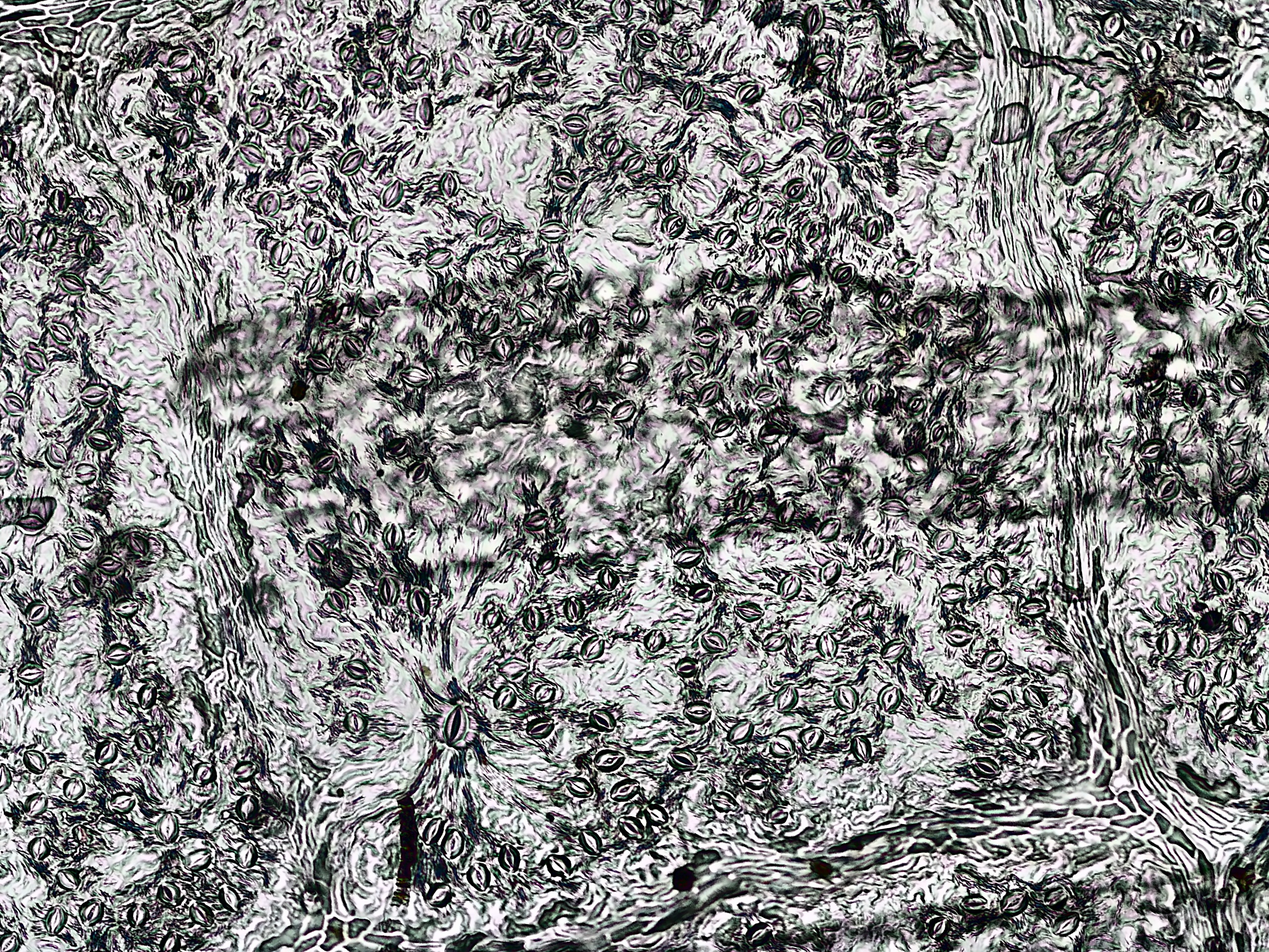stomata: (442, 703, 467, 746), (311, 447, 341, 476), (376, 575, 402, 607), (156, 811, 181, 844), (737, 78, 766, 106), (779, 101, 805, 132), (579, 633, 606, 662), (831, 685, 860, 712), (1099, 9, 1125, 39), (398, 366, 433, 388), (303, 536, 330, 564), (774, 683, 799, 713), (876, 683, 901, 713), (498, 843, 522, 874), (1183, 382, 1207, 413), (44, 904, 67, 936), (1177, 19, 1200, 51), (495, 659, 530, 680), (78, 898, 104, 926), (406, 459, 432, 487), (746, 922, 774, 948), (295, 171, 328, 193), (818, 557, 842, 587), (539, 221, 570, 244), (668, 748, 699, 771), (1019, 727, 1050, 750), (1139, 38, 1162, 69), (1232, 16, 1254, 48), (1156, 625, 1178, 657), (737, 148, 764, 174), (1097, 203, 1124, 229), (234, 842, 259, 870), (1210, 220, 1238, 245), (288, 124, 312, 153), (258, 190, 282, 219), (889, 40, 918, 64), (511, 23, 534, 53), (44, 322, 75, 344), (609, 778, 640, 800), (1202, 57, 1233, 79), (338, 148, 364, 174), (727, 718, 753, 744), (1226, 370, 1251, 397), (16, 514, 48, 535), (320, 297, 344, 325), (822, 134, 850, 158), (594, 749, 626, 770), (672, 547, 704, 568), (1177, 104, 1201, 132), (1141, 437, 1169, 461), (356, 294, 385, 317), (261, 448, 284, 477), (466, 862, 489, 891), (1052, 912, 1081, 935), (1244, 187, 1267, 216), (383, 521, 405, 551), (522, 604, 544, 634), (525, 716, 555, 738), (894, 548, 915, 579), (189, 902, 215, 927), (166, 47, 193, 71), (185, 847, 212, 871), (237, 794, 261, 821), (1216, 148, 1240, 175), (1154, 475, 1181, 499), (442, 831, 465, 859), (1246, 299, 1269, 327), (1228, 419, 1251, 447), (804, 3, 824, 35), (304, 219, 326, 248), (578, 314, 600, 343), (1159, 269, 1181, 298), (342, 658, 372, 679), (945, 625, 975, 646), (427, 881, 451, 907), (616, 360, 642, 384), (685, 700, 711, 724), (939, 358, 965, 382), (477, 211, 500, 238), (752, 383, 779, 406), (303, 270, 325, 298), (45, 441, 67, 469), (629, 303, 651, 331), (851, 736, 873, 764), (910, 302, 932, 330), (173, 178, 194, 207), (66, 528, 95, 549), (409, 589, 430, 618), (824, 377, 845, 406), (972, 757, 1001, 778), (344, 711, 368, 736), (769, 734, 794, 758), (929, 418, 949, 448), (5, 216, 28, 242), (548, 854, 574, 877), (1186, 630, 1209, 656), (58, 272, 85, 294), (270, 238, 292, 265), (81, 385, 108, 407), (95, 739, 117, 766), (493, 335, 515, 362), (807, 52, 834, 74), (663, 212, 685, 239), (762, 631, 789, 653), (96, 555, 124, 576), (17, 663, 45, 684), (137, 683, 158, 711), (756, 424, 784, 445), (1000, 891, 1028, 912), (939, 582, 967, 603), (979, 716, 1007, 737), (1190, 188, 1211, 216), (349, 215, 369, 244), (623, 65, 643, 94), (925, 680, 945, 709), (1216, 657, 1236, 686), (1185, 668, 1205, 697), (1, 390, 24, 415), (24, 601, 49, 624), (23, 749, 46, 774), (475, 309, 498, 334), (698, 382, 721, 407), (800, 726, 823, 751), (777, 575, 802, 598), (981, 649, 1006, 672), (1141, 92, 1164, 117), (562, 115, 588, 137), (347, 509, 369, 535), (575, 387, 597, 413), (609, 401, 635, 423), (563, 597, 585, 623), (493, 685, 515, 711), (862, 534, 884, 560), (383, 178, 402, 208), (1019, 598, 1049, 617), (86, 429, 113, 450), (29, 835, 50, 862), (817, 632, 838, 659), (471, 5, 491, 33), (126, 532, 150, 555), (865, 96, 888, 120), (553, 168, 577, 191), (535, 552, 559, 575), (643, 629, 666, 653), (851, 598, 874, 622), (904, 452, 928, 475), (1212, 569, 1235, 593), (415, 97, 434, 126), (241, 142, 266, 164), (25, 350, 47, 375), (134, 728, 156, 753), (219, 885, 241, 910), (882, 637, 907, 659), (1025, 684, 1047, 709), (1161, 227, 1183, 252), (1206, 281, 1228, 306), (1198, 502, 1220, 527), (427, 247, 453, 268), (308, 352, 334, 373), (732, 306, 758, 327), (702, 632, 728, 653), (422, 818, 442, 845), (657, 153, 677, 180), (599, 567, 619, 594), (566, 776, 593, 796), (711, 791, 738, 811), (821, 468, 848, 488), (1251, 702, 1269, 732), (735, 602, 763, 621), (783, 178, 806, 201), (553, 25, 577, 47), (602, 134, 624, 158), (25, 793, 47, 817), (56, 868, 80, 890), (193, 762, 217, 784), (579, 831, 601, 855), (516, 303, 540, 325), (591, 709, 615, 731), (106, 644, 131, 665), (345, 334, 366, 359), (785, 271, 810, 292), (762, 341, 787, 362), (712, 416, 737, 437), (618, 817, 643, 838), (173, 122, 191, 151), (440, 172, 460, 198), (453, 49, 473, 75), (864, 217, 884, 243), (693, 327, 719, 347), (644, 804, 670, 824), (861, 384, 881, 410), (882, 498, 908, 518), (62, 777, 84, 800), (157, 882, 179, 905), (386, 436, 409, 458), (832, 264, 855, 286), (1227, 463, 1250, 485), (530, 67, 558, 85), (111, 792, 135, 813), (443, 278, 461, 306), (711, 265, 732, 289), (893, 256, 917, 277), (735, 487, 753, 515), (35, 224, 55, 249), (115, 597, 140, 617), (128, 904, 148, 929), (776, 499, 796, 524), (301, 84, 320, 110), (742, 769, 768, 788), (962, 894, 988, 913), (52, 187, 69, 216), (501, 253, 523, 275), (714, 226, 736, 248), (817, 518, 839, 540), (1217, 703, 1239, 725), (407, 55, 428, 78), (73, 465, 96, 486), (67, 574, 90, 595), (623, 152, 646, 173), (929, 916, 950, 939), (683, 80, 699, 110), (525, 512, 549, 532), (675, 657, 699, 677), (990, 691, 1014, 711), (634, 28, 659, 47), (798, 310, 823, 329), (873, 136, 899, 154), (158, 930, 180, 951), (933, 530, 954, 552), (611, 1, 634, 21), (233, 761, 256, 781), (689, 582, 712, 602), (959, 294, 979, 317), (375, 23, 399, 42), (545, 270, 569, 289), (344, 260, 362, 285), (1044, 888, 1069, 906), (1253, 236, 1269, 264), (495, 83, 512, 109), (72, 825, 94, 845), (456, 341, 476, 363), (484, 608, 504, 630), (340, 41, 359, 64), (1231, 610, 1247, 637), (742, 197, 762, 218), (534, 682, 554, 703), (767, 806, 788, 826), (908, 393, 928, 414), (960, 499, 981, 519), (986, 565, 1006, 586), (1237, 536, 1257, 557), (0, 930, 19, 952), (327, 592, 349, 611), (764, 228, 787, 246), (250, 104, 267, 128), (877, 287, 894, 311), (78, 230, 92, 259), (893, 343, 912, 364), (655, 0, 674, 20), (687, 356, 707, 375), (519, 0, 546, 14), (0, 552, 14, 579), (674, 38, 691, 60), (957, 474, 979, 491), (362, 68, 383, 85), (802, 221, 819, 242), (190, 86, 206, 106), (0, 764, 10, 793), (1, 456, 14, 478)
